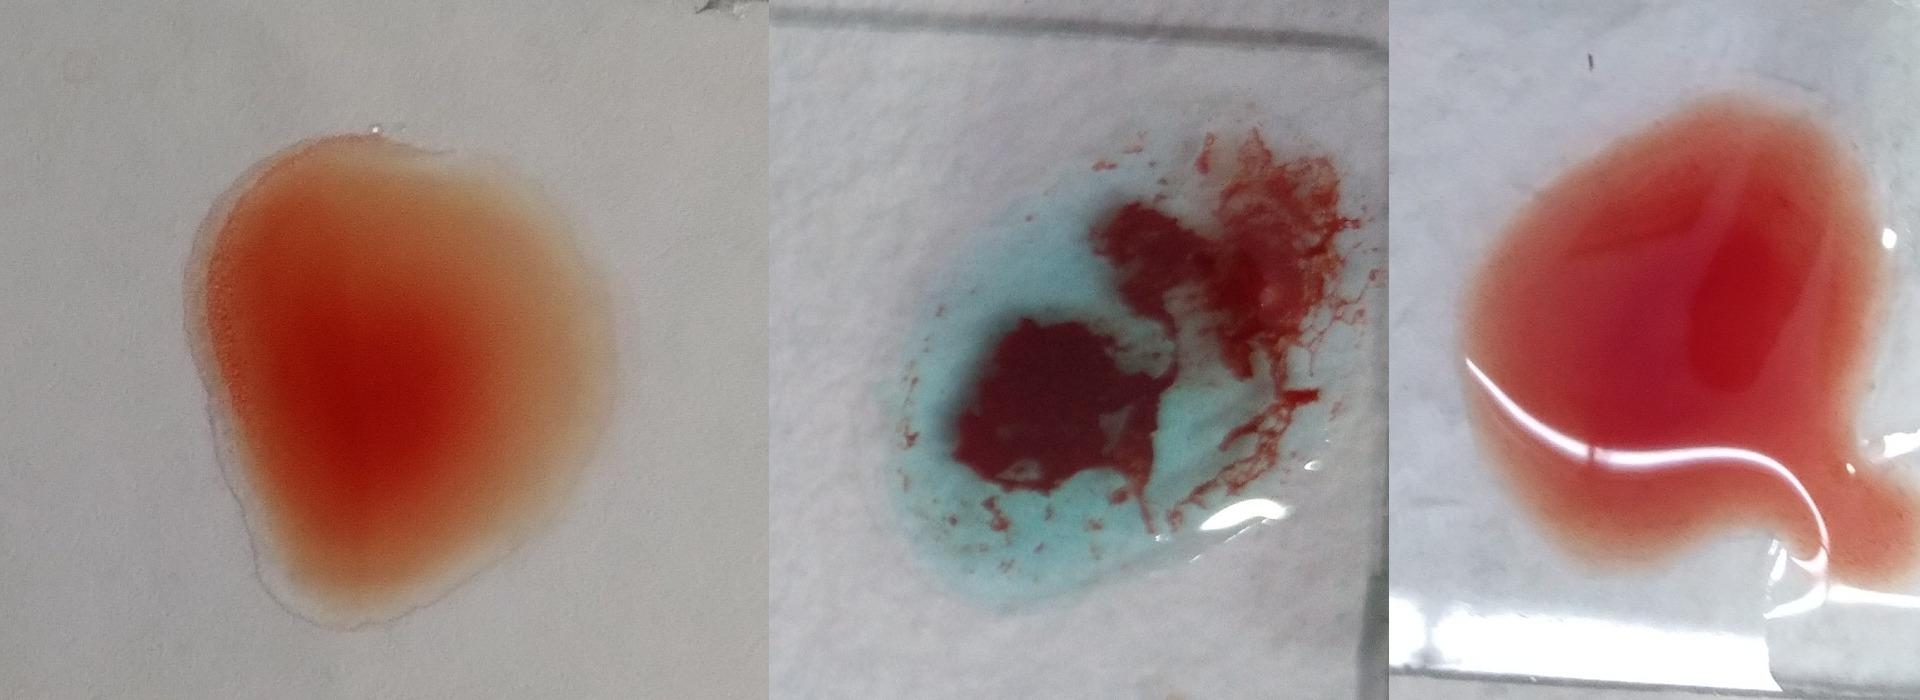A: (867, 71, 1313, 598)
